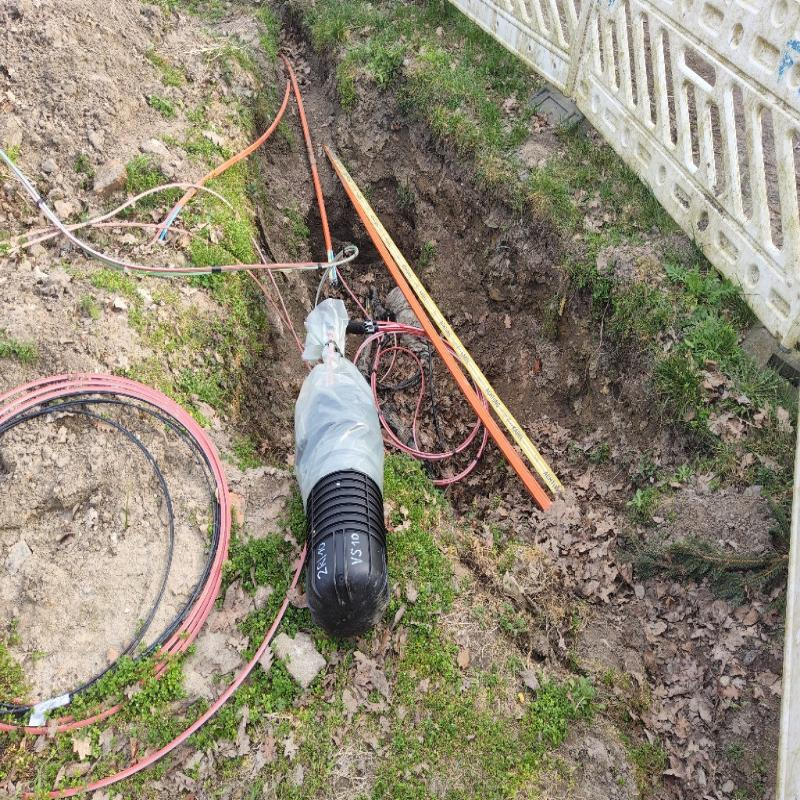NT-Muffen: (295, 299, 387, 639)
Orang-Speednetrohrchen: (338, 175, 554, 503), (231, 62, 337, 286)
